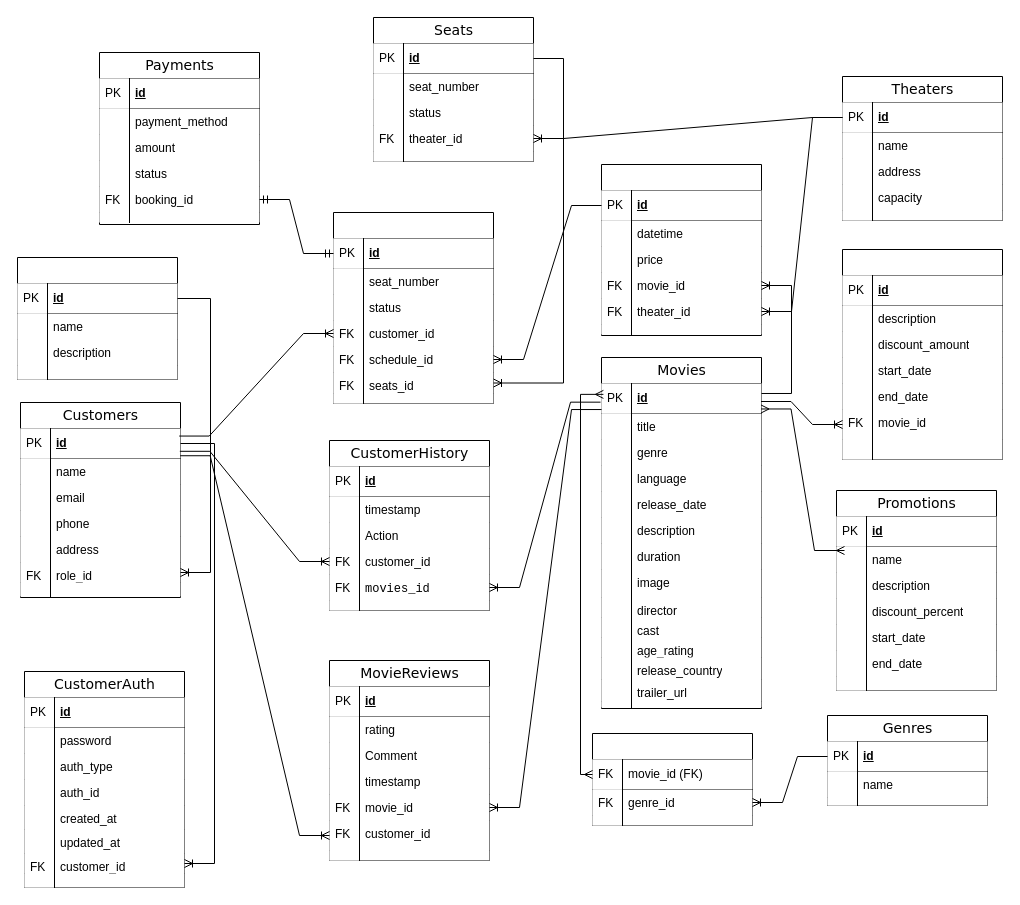
Image size: 1020x905. Some labels were removed from this diagram. The box of each missing label's shape, as (x1, y1, x2, y2) in pixels:
Bookings: (332, 212, 494, 404)
Discounts: (842, 248, 1002, 460)
MovieGenres: (592, 732, 752, 826)
Roles: (16, 256, 178, 380)
Schedules: (600, 164, 762, 336)
